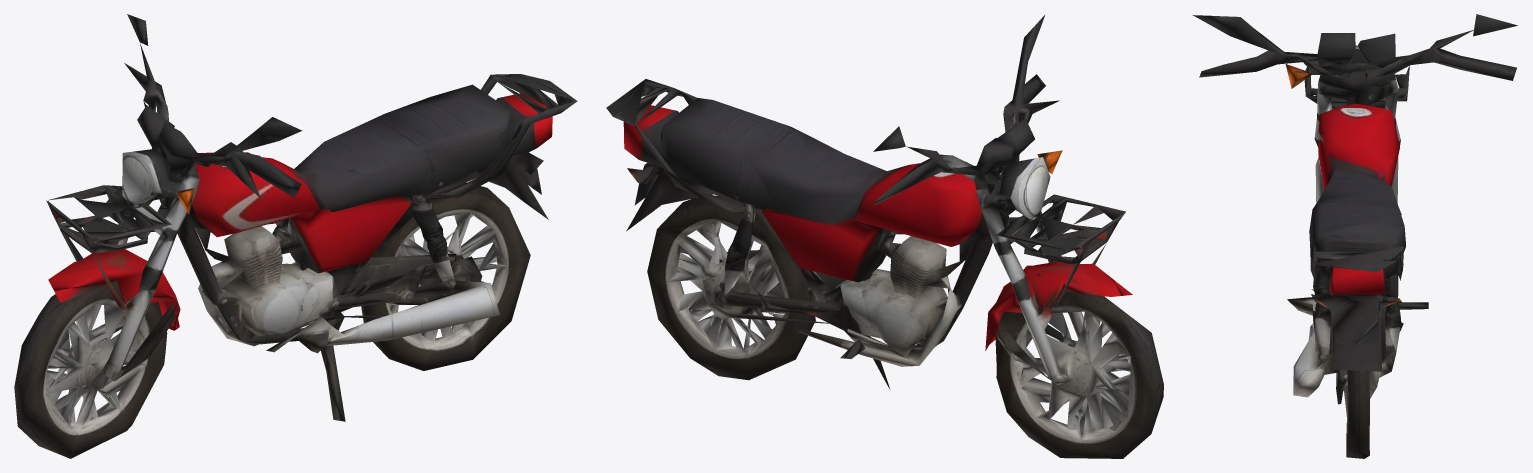
The model's file is okada.glb.
3 views of the same model, side by side, from view 1: azimuth 30°, elevation 25°; view 2: azimuth 150°, elevation 25°; view 3: azimuth 270°, elevation 25° (orthographic). The views are drawn at different scales.
Visible parts, largest first — view 1: tripo_node_26a76096-1853-4baf-98dc-dac1cc384b17; view 2: tripo_node_26a76096-1853-4baf-98dc-dac1cc384b17; view 3: tripo_node_26a76096-1853-4baf-98dc-dac1cc384b17.
Boxes of the visible parts, x1,y1,x2,y2 form: tripo_node_26a76096-1853-4baf-98dc-dac1cc384b17: [14, 14, 577, 458]; tripo_node_26a76096-1853-4baf-98dc-dac1cc384b17: [606, 15, 1163, 458]; tripo_node_26a76096-1853-4baf-98dc-dac1cc384b17: [1193, 14, 1517, 458].
Size of the model in its own units: 1 by 0.6265 by 0.5547.
1 material, 1 textured.
